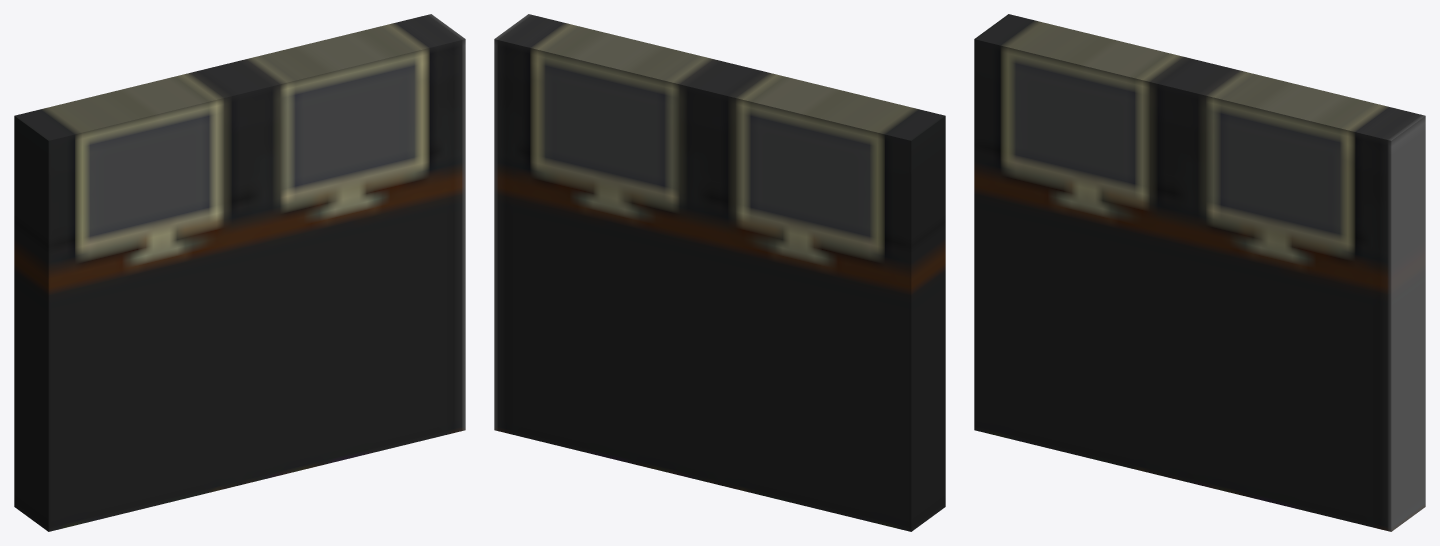
File: LOD_Monitors.fbx
3 renders of one model, left to right at view 1: azimuth 30°, elevation 25°; view 2: azimuth 150°, elevation 25°; view 3: azimuth 330°, elevation 25°, orthographic.
Parts seen in each view (by area): view 1: LOD_Monitors_WithEdge; view 2: LOD_Monitors_WithEdge; view 3: LOD_Monitors_WithEdge.
Part boxes in pixels (box(x1,y1,x2,y2)): LOD_Monitors_WithEdge: box(14, 14, 465, 531); LOD_Monitors_WithEdge: box(494, 14, 945, 531); LOD_Monitors_WithEdge: box(974, 14, 1425, 531).
Size of the model in its own units: 0.3574 by 0.3202 by 0.051.
